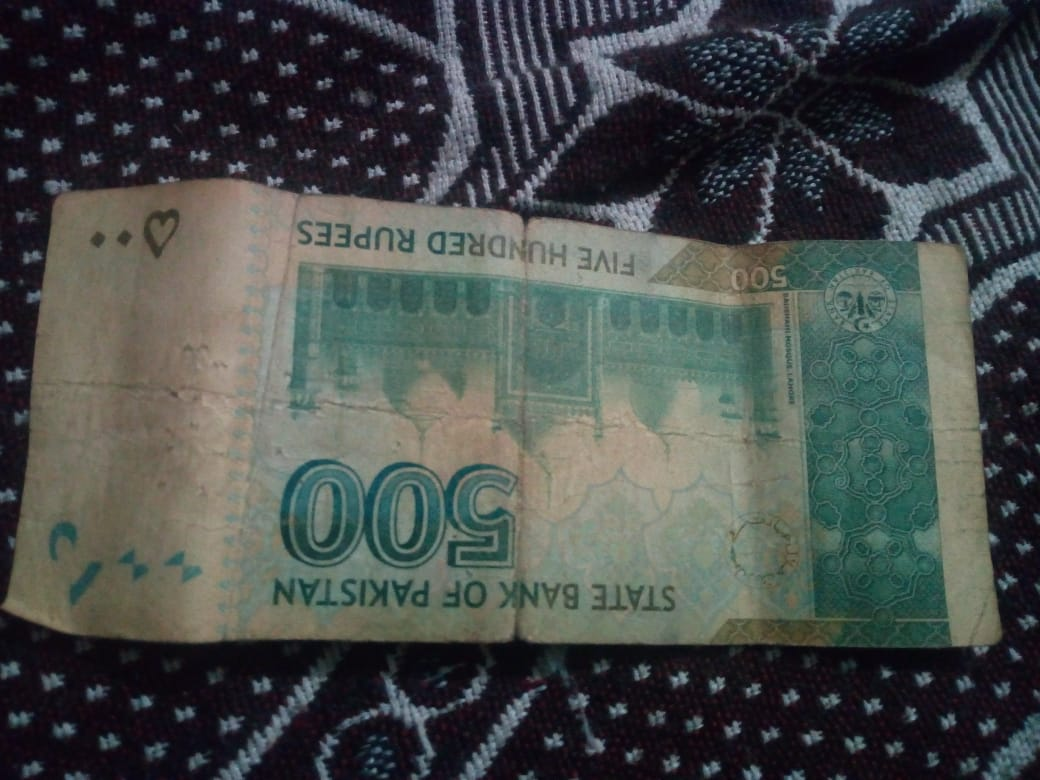500 rupee: (25, 174, 1023, 664)
